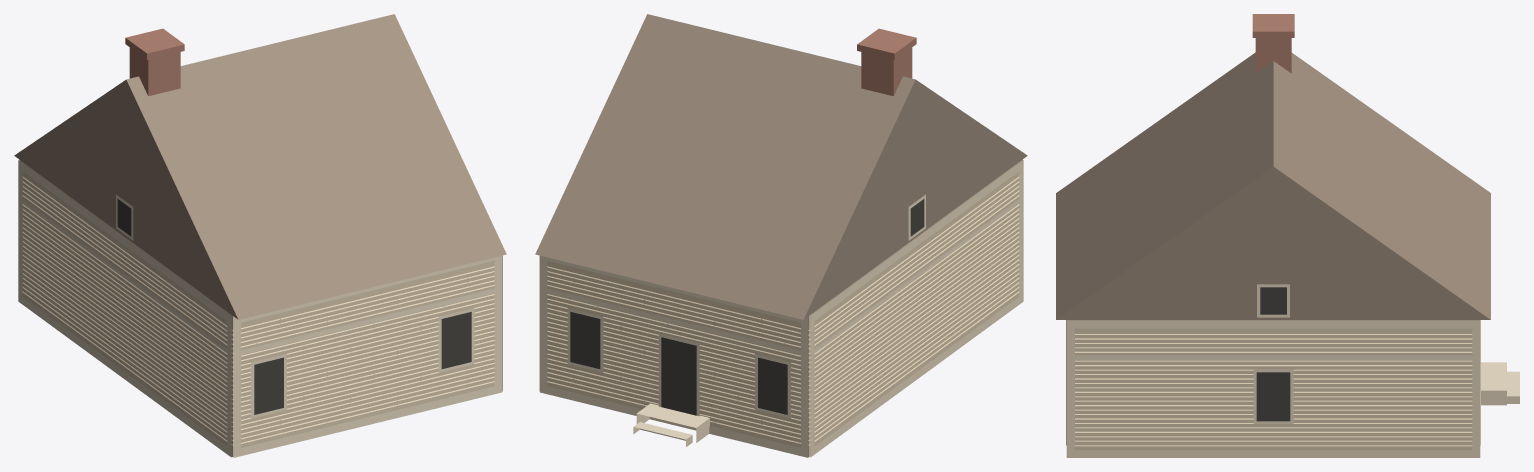
Rendered from recon_1835_blk_randolph_clark_d6_04__inferred_1835.glb.
3 renders of one model, left to right at view 1: azimuth 30°, elevation 25°; view 2: azimuth 150°, elevation 25°; view 3: azimuth 270°, elevation 25°, orthographic. The views are drawn at different scales.
Visible parts, largest first — view 1: recon_1835_blk_randolph_clark_d6_04__inferred_1835; view 2: recon_1835_blk_randolph_clark_d6_04__inferred_1835; view 3: recon_1835_blk_randolph_clark_d6_04__inferred_1835.
Part boxes in pixels (x1,y1,x2,y2): recon_1835_blk_randolph_clark_d6_04__inferred_1835: (14,14,506,457); recon_1835_blk_randolph_clark_d6_04__inferred_1835: (535,14,1027,457); recon_1835_blk_randolph_clark_d6_04__inferred_1835: (1056,14,1519,457).
Bounding box in the file's own units: 7.08 × 8.24 × 10.78.
